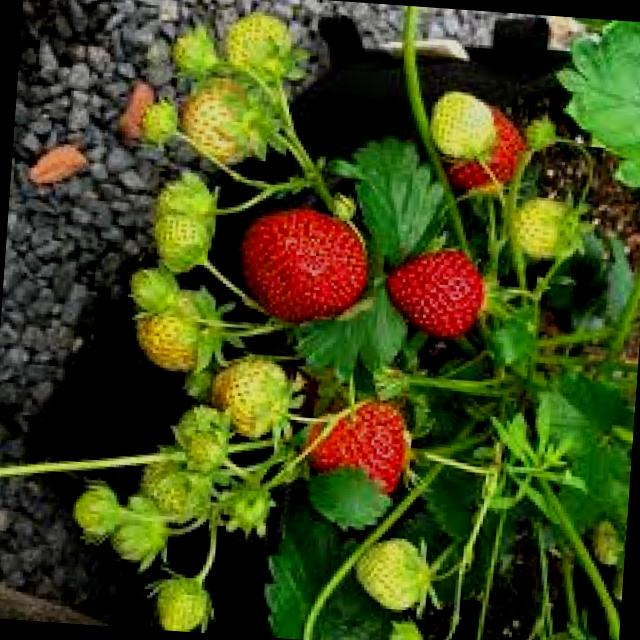tofu: (231, 198, 371, 334), (378, 248, 500, 342)
